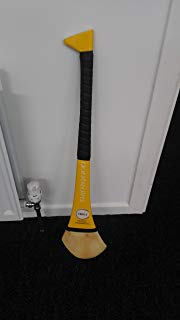hurley: (57, 27, 111, 261)
